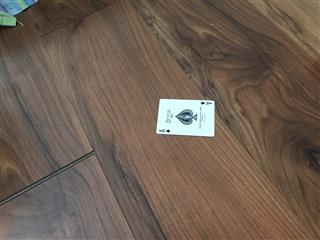AceOfSpades: (155, 98, 215, 137)
